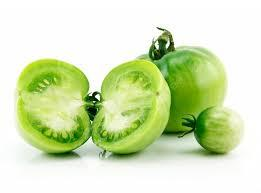Mengkal: (139, 48, 229, 137), (189, 105, 246, 153)
Muda: (2, 56, 92, 159), (96, 59, 167, 159)
